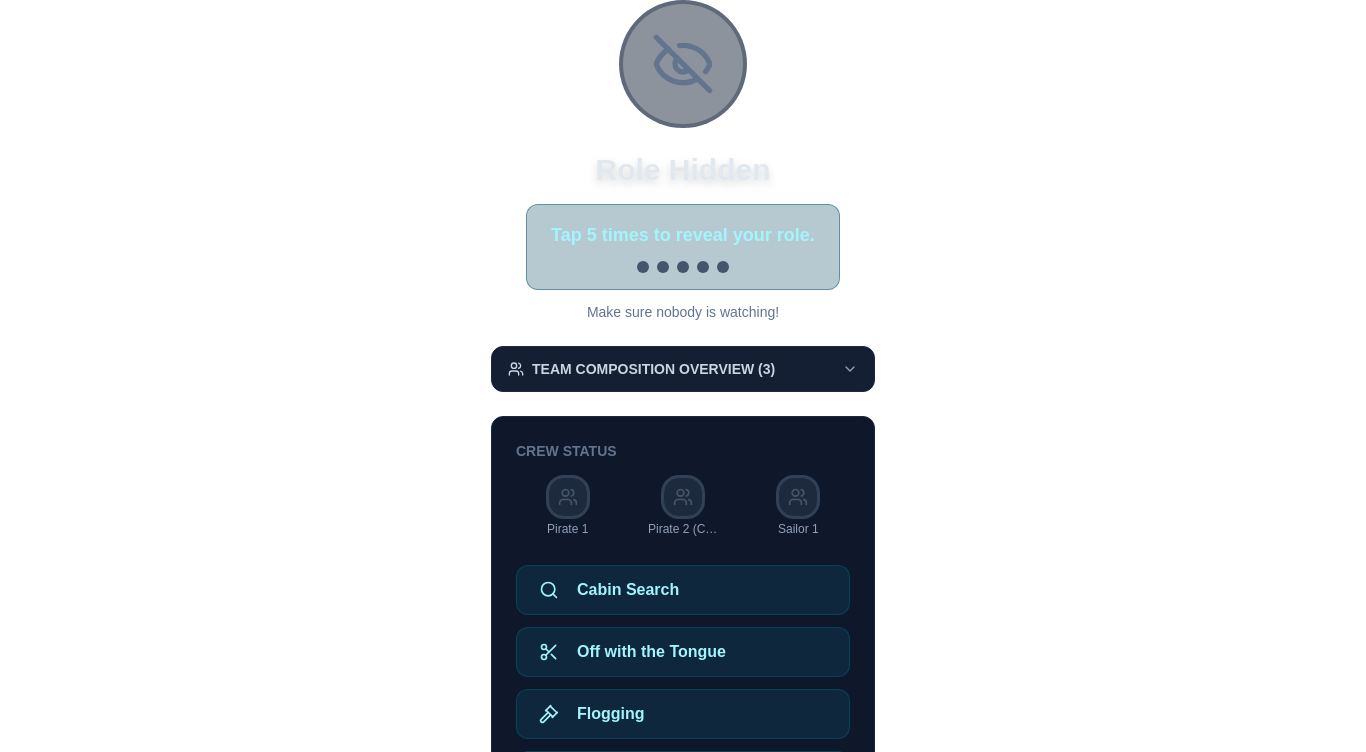
Test: GameView › shows converted pirate in Pirate Crew list for other pirates
Click the button "Tap 5 times to reveal your role." at {"x": 683, "y": 247}, box [526,204,840,290]
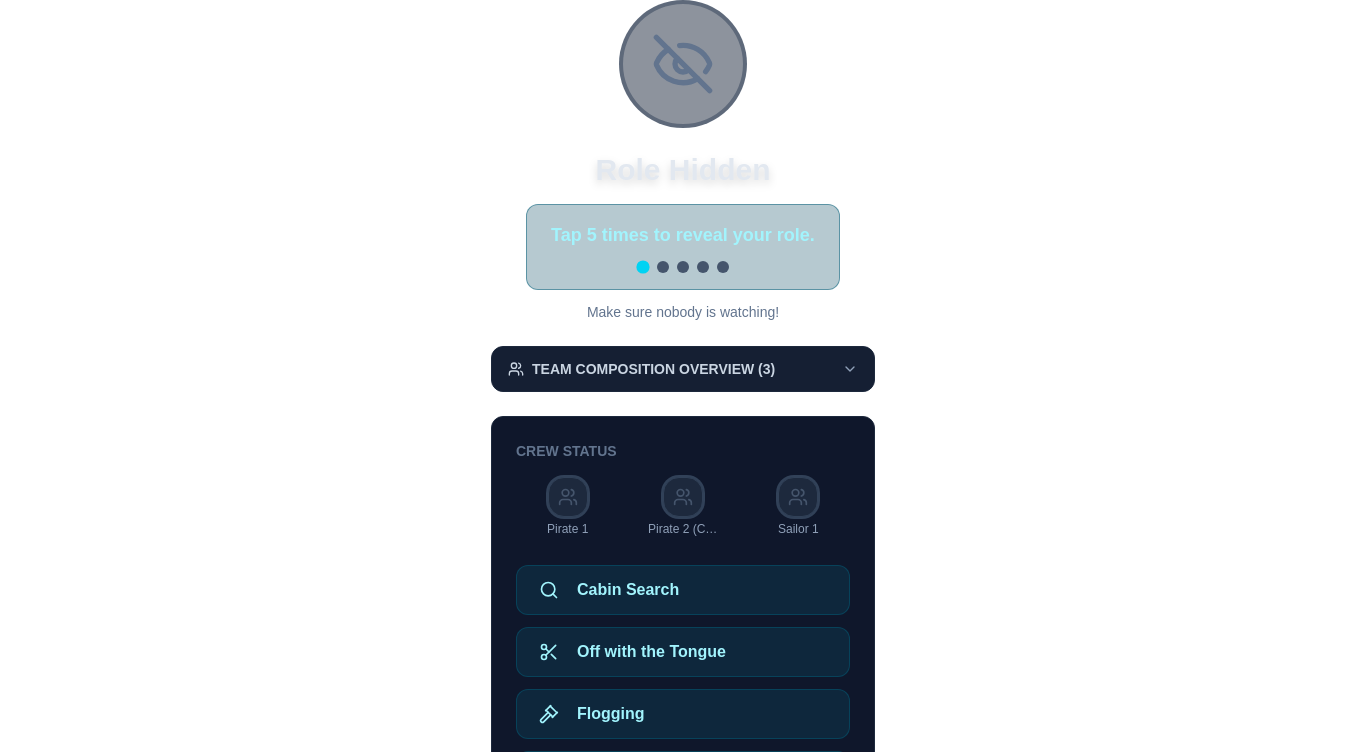
Click the button "Tap 5 times to reveal your role." at {"x": 683, "y": 247}, box [526,204,840,290]
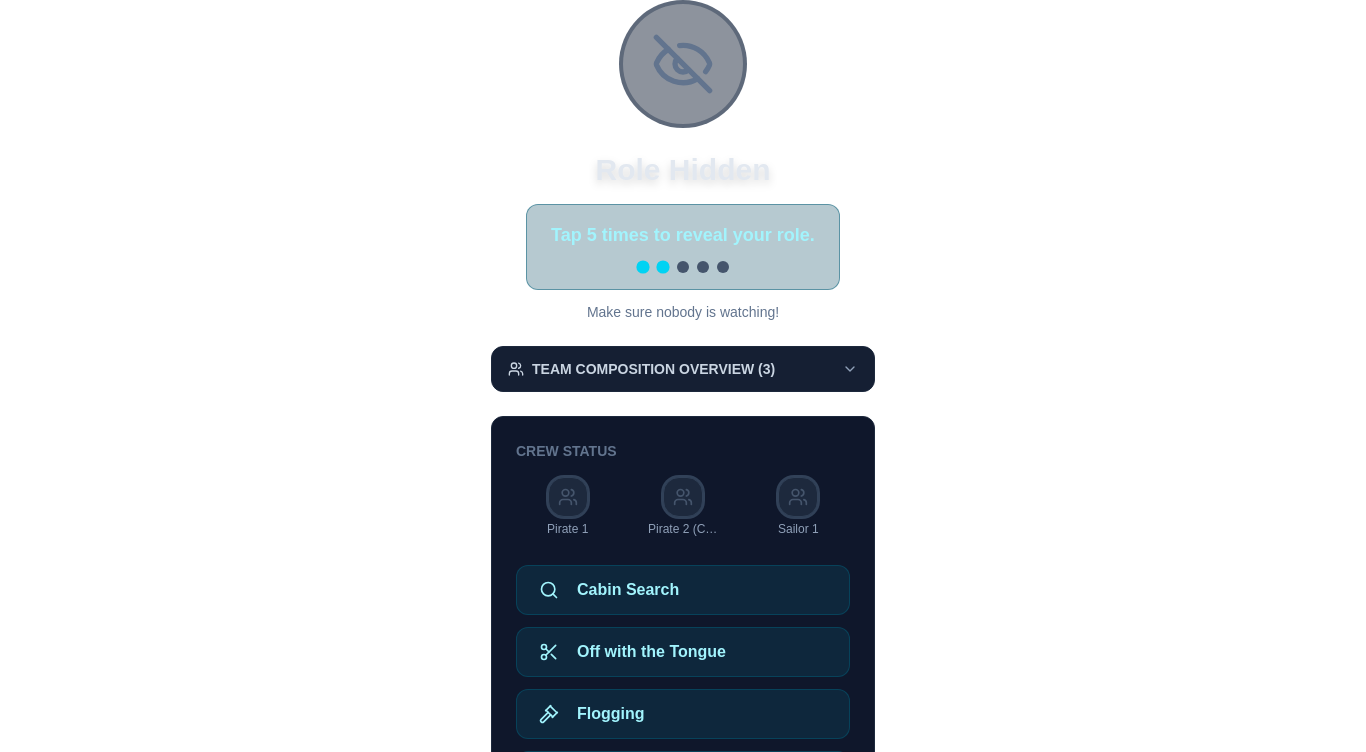
Click the button "Tap 5 times to reveal your role." at {"x": 683, "y": 247}, box [526,204,840,290]
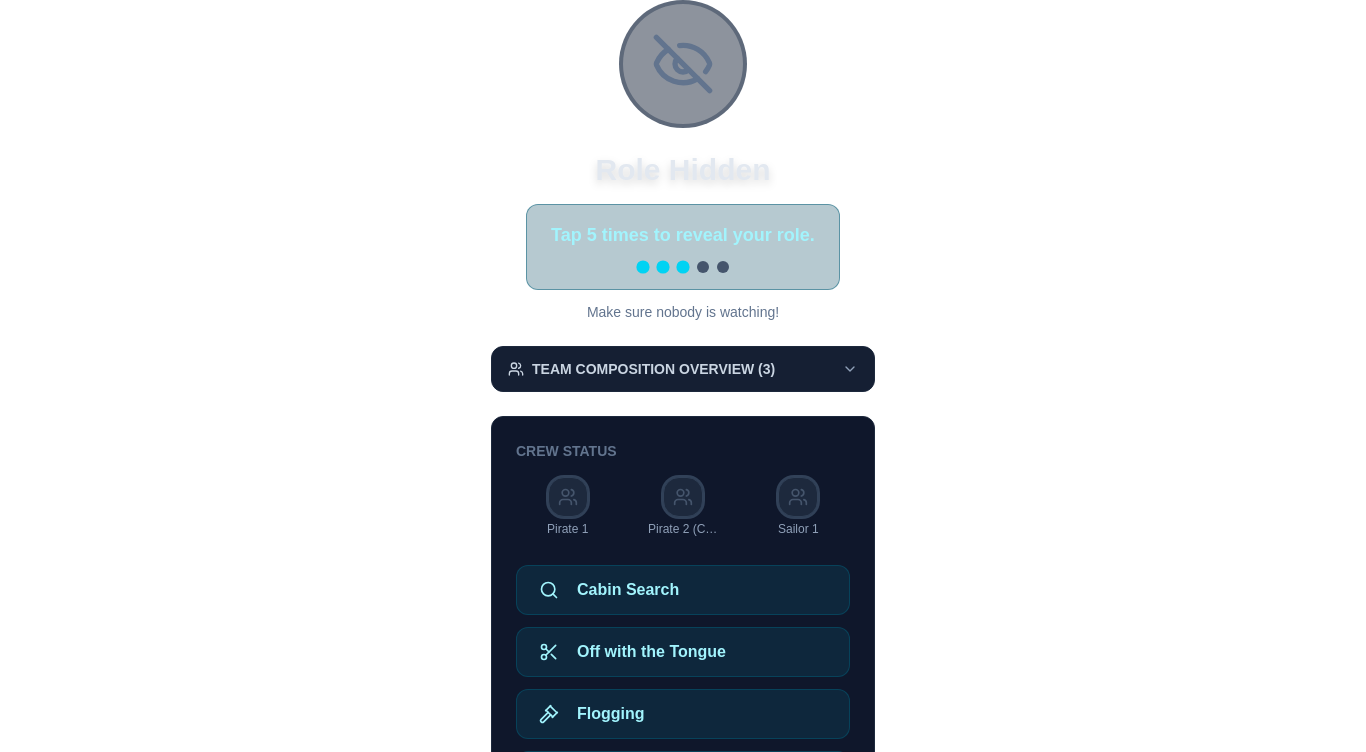
Click the button "Tap 5 times to reveal your role." at {"x": 683, "y": 247}, box [526,204,840,290]
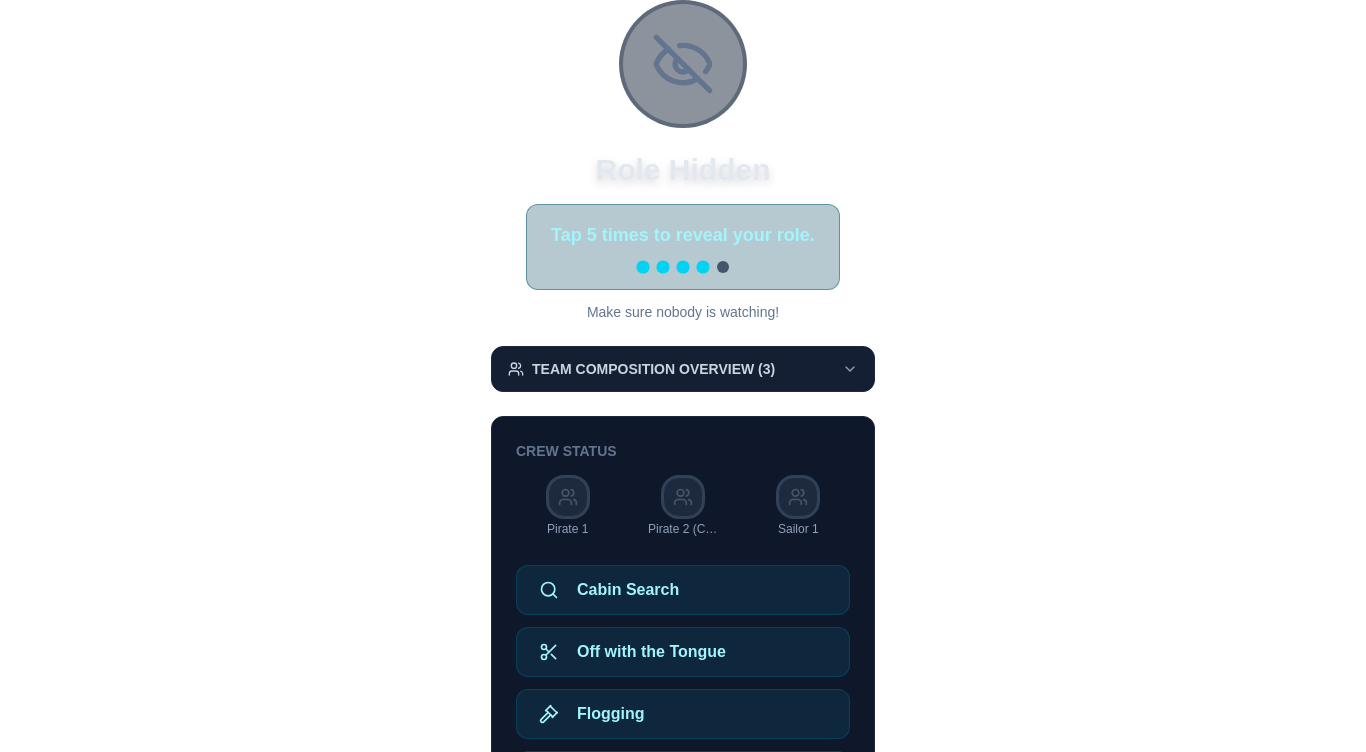
Click the button "Tap 5 times to reveal your role." at {"x": 683, "y": 247}, box [526,204,840,290]
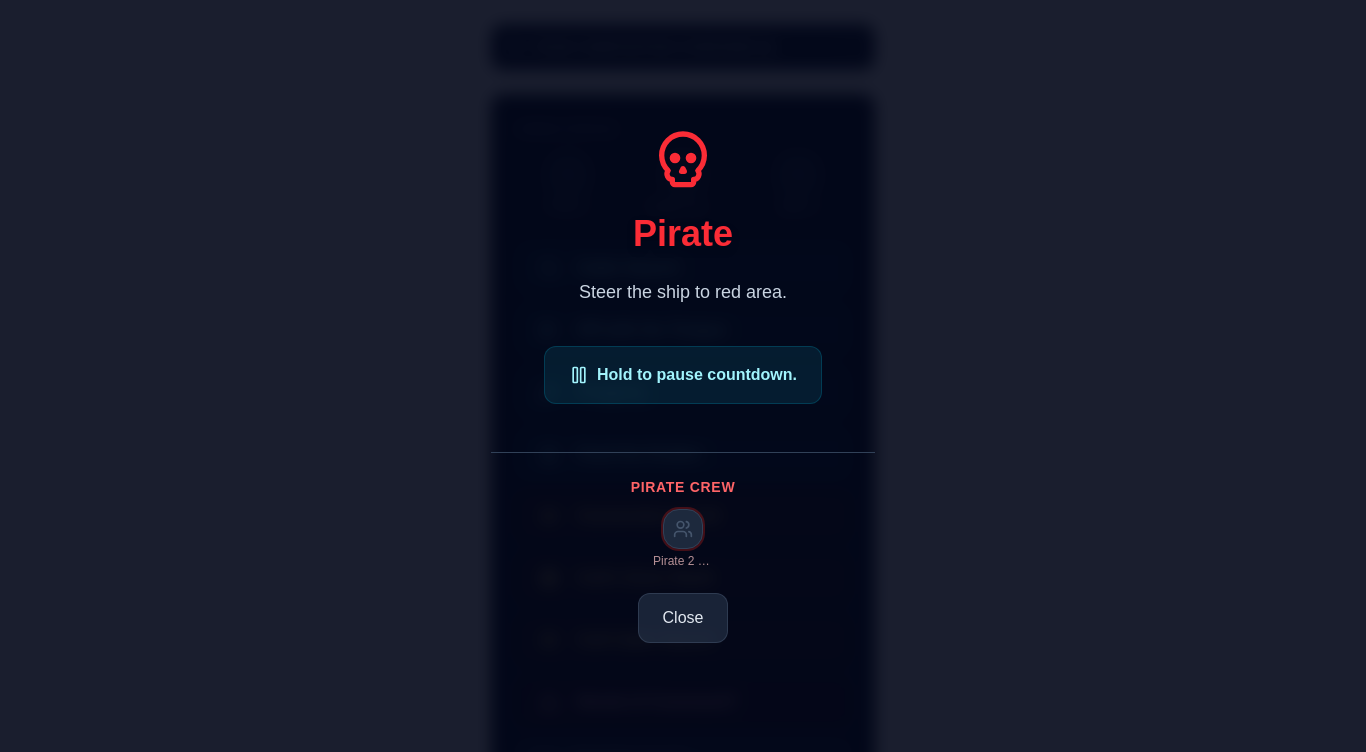
Expected: the heading "Pirate Crew" is shown, [631,478,735,494]
Expected: the text "Pirate 2 (Converted)" is shown, [653,552,713,568]
